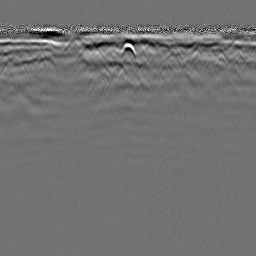cavity: (120, 41, 137, 61)
